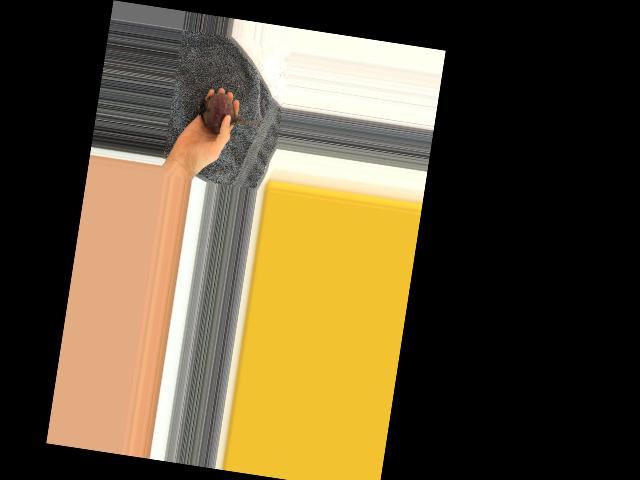beet: (195, 89, 267, 139)
